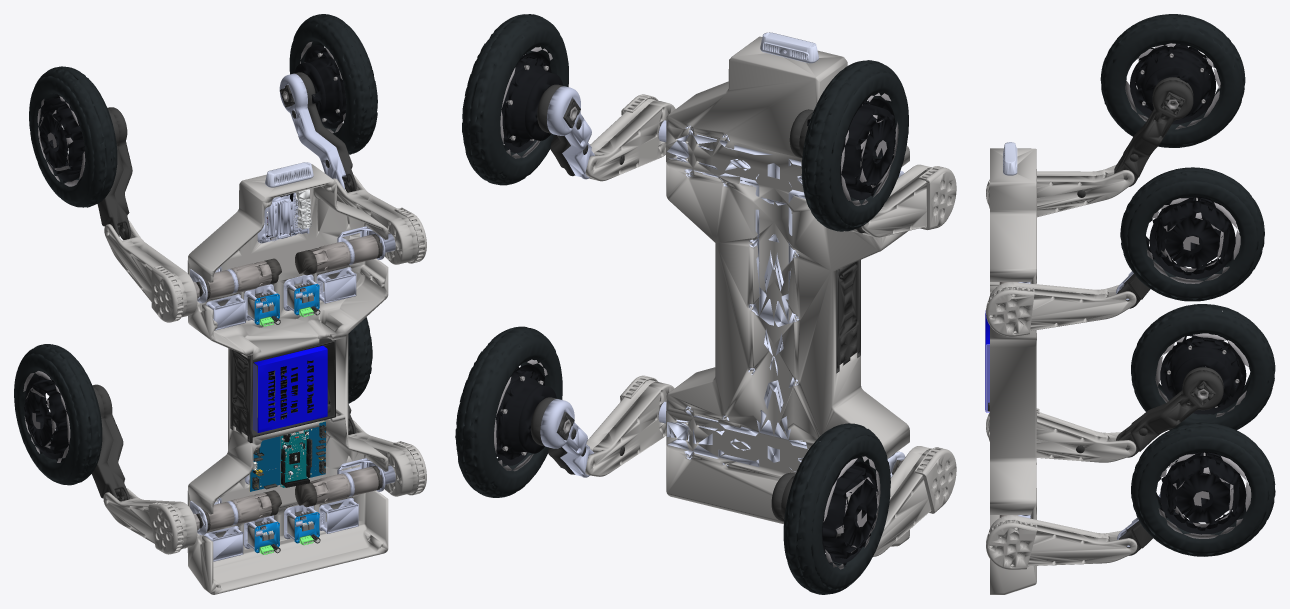
The model's file is safl-quadruped.glb.
3 views of the same model, side by side, from view 1: azimuth 30°, elevation 25°; view 2: azimuth 150°, elevation 25°; view 3: azimuth 270°, elevation 25° (orthographic). The views are drawn at different scales.
Visible parts, largest first — view 1: ALUMINUM BASE-1; view 2: ALUMINUM BASE-1; view 3: ALUMINUM BASE-1.
Boxes of the visible parts, left/top/right/bottom form: ALUMINUM BASE-1: left=14, top=14, right=426, bottom=594; ALUMINUM BASE-1: left=455, top=14, right=956, bottom=594; ALUMINUM BASE-1: left=985, top=14, right=1275, bottom=594.
Size of the model in its own units: 0.6214 by 0.8895 by 0.4964.
2 materials, 2 textured.
